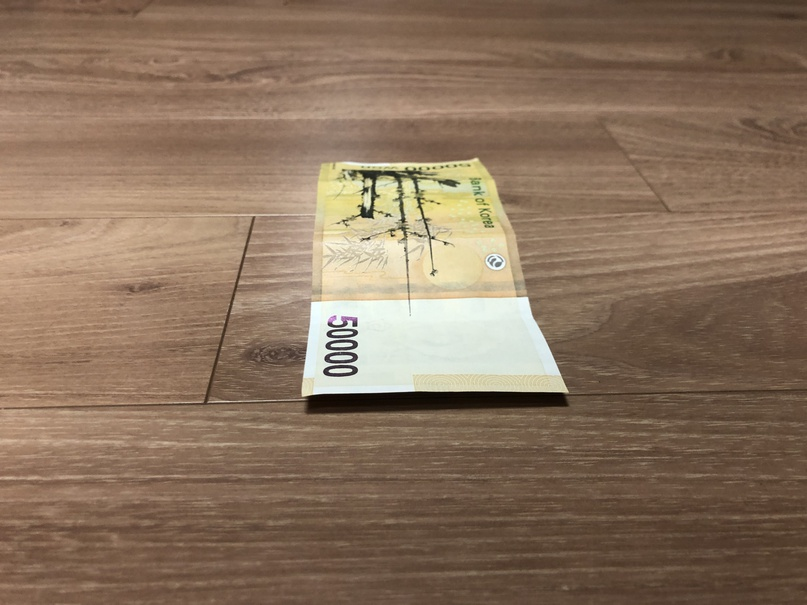50000won: (302, 158, 568, 400)
